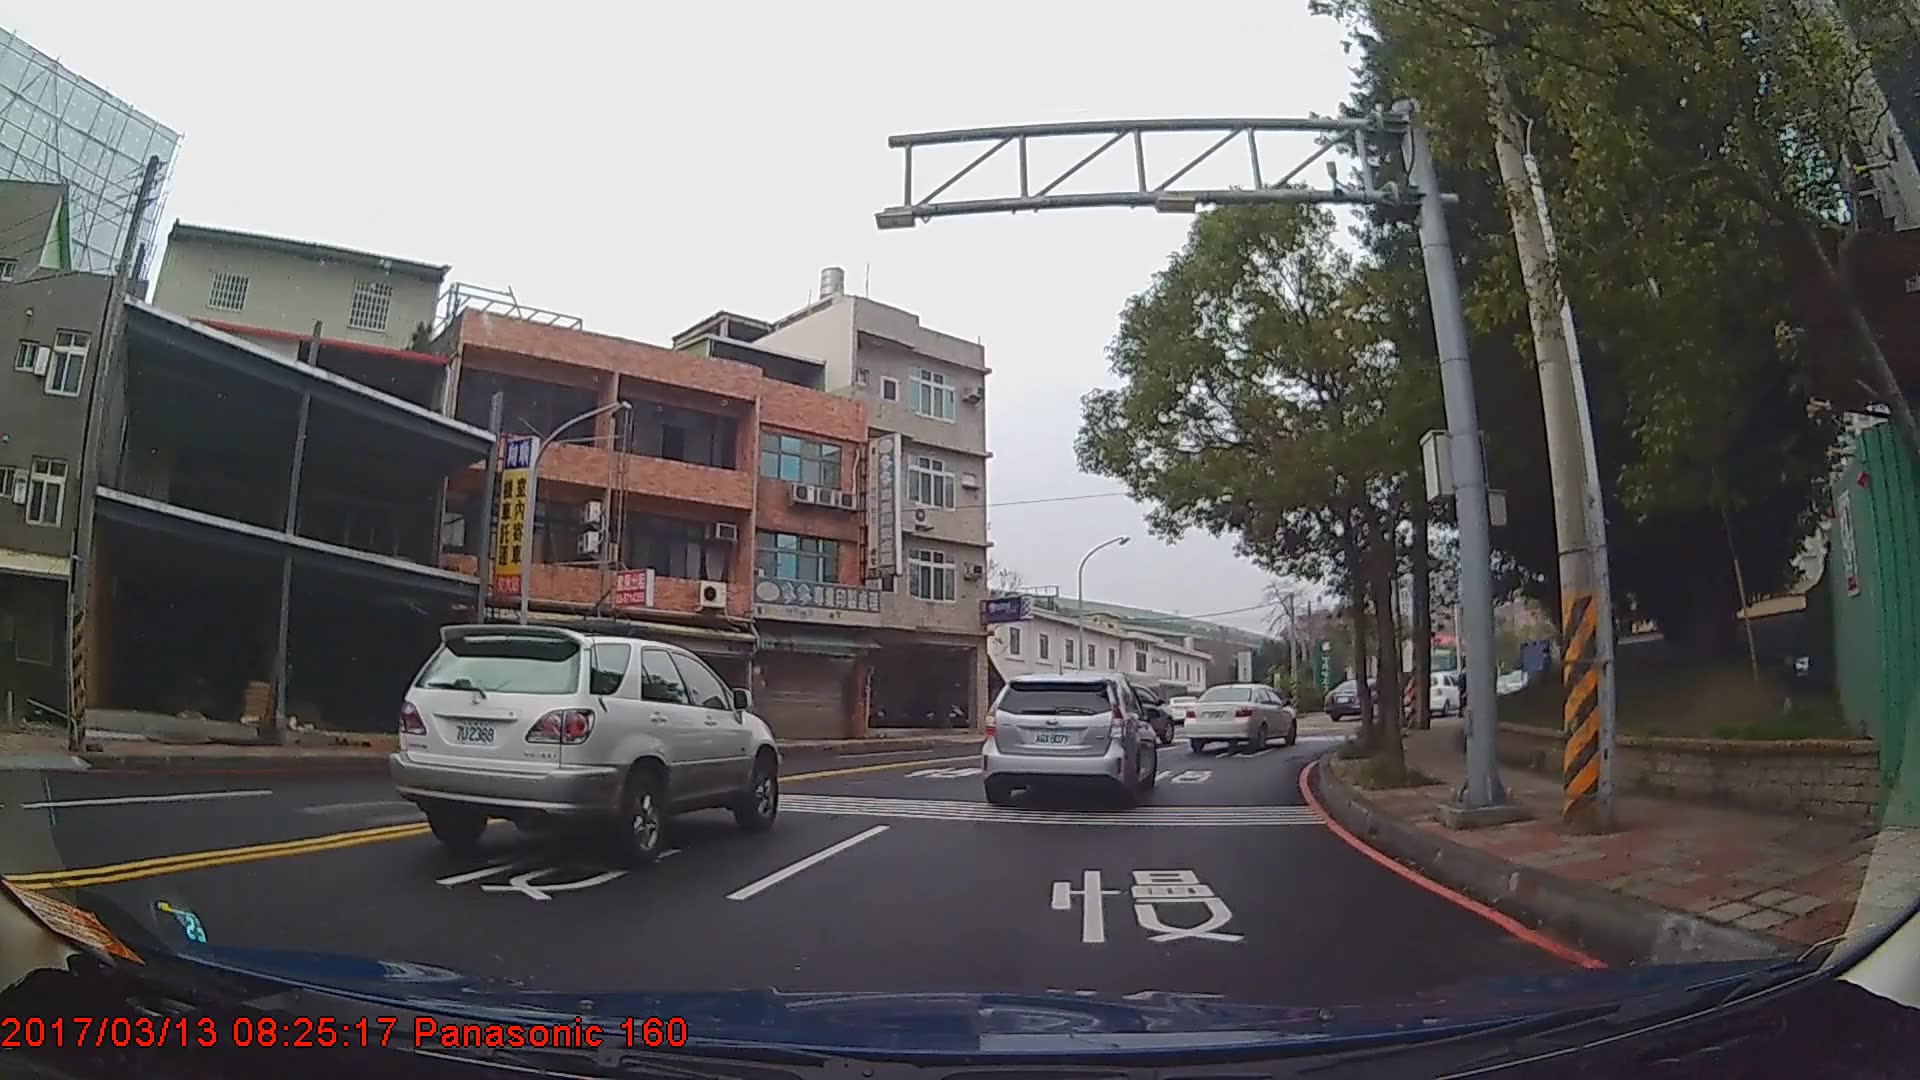vehicle: (389, 618, 781, 862), (975, 669, 1155, 808), (1182, 682, 1299, 752), (1320, 676, 1387, 719)
